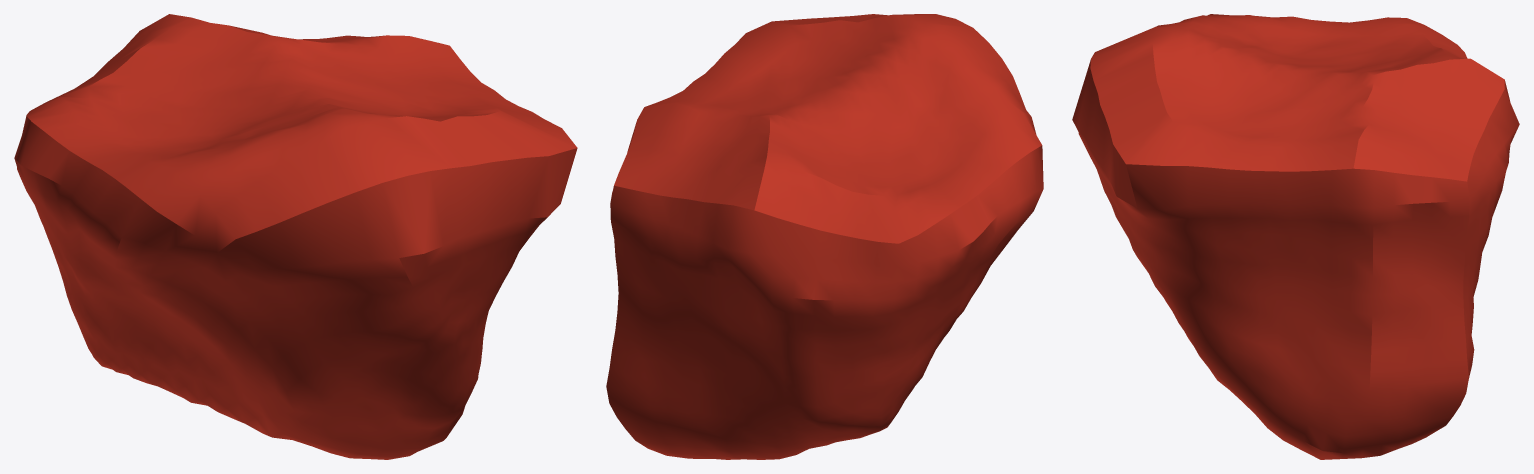
Rendered from platform.fbx.
3 views of the same model, side by side, from view 1: azimuth 30°, elevation 25°; view 2: azimuth 150°, elevation 25°; view 3: azimuth 270°, elevation 25° (orthographic). The views are drawn at different scales.
Visible parts, largest first — view 1: rock; view 2: rock; view 3: rock.
Part boxes in pixels (x1,y1,x2,y2): rock: (14, 14, 577, 459); rock: (606, 14, 1043, 459); rock: (1072, 14, 1519, 459).
Size of the model in its own units: 114 by 117 by 130.
